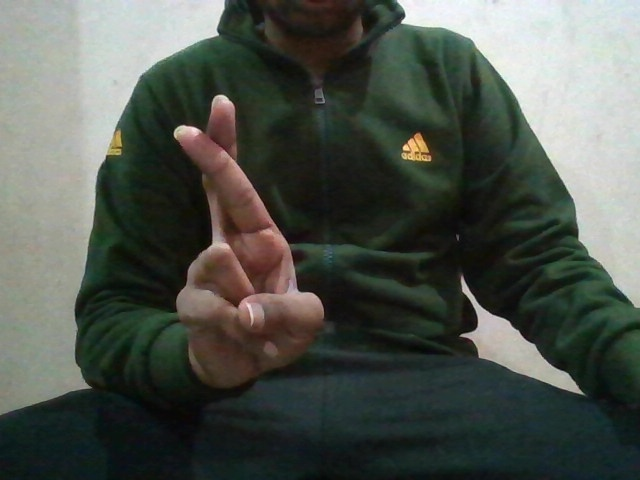R: (169, 93, 331, 382)
